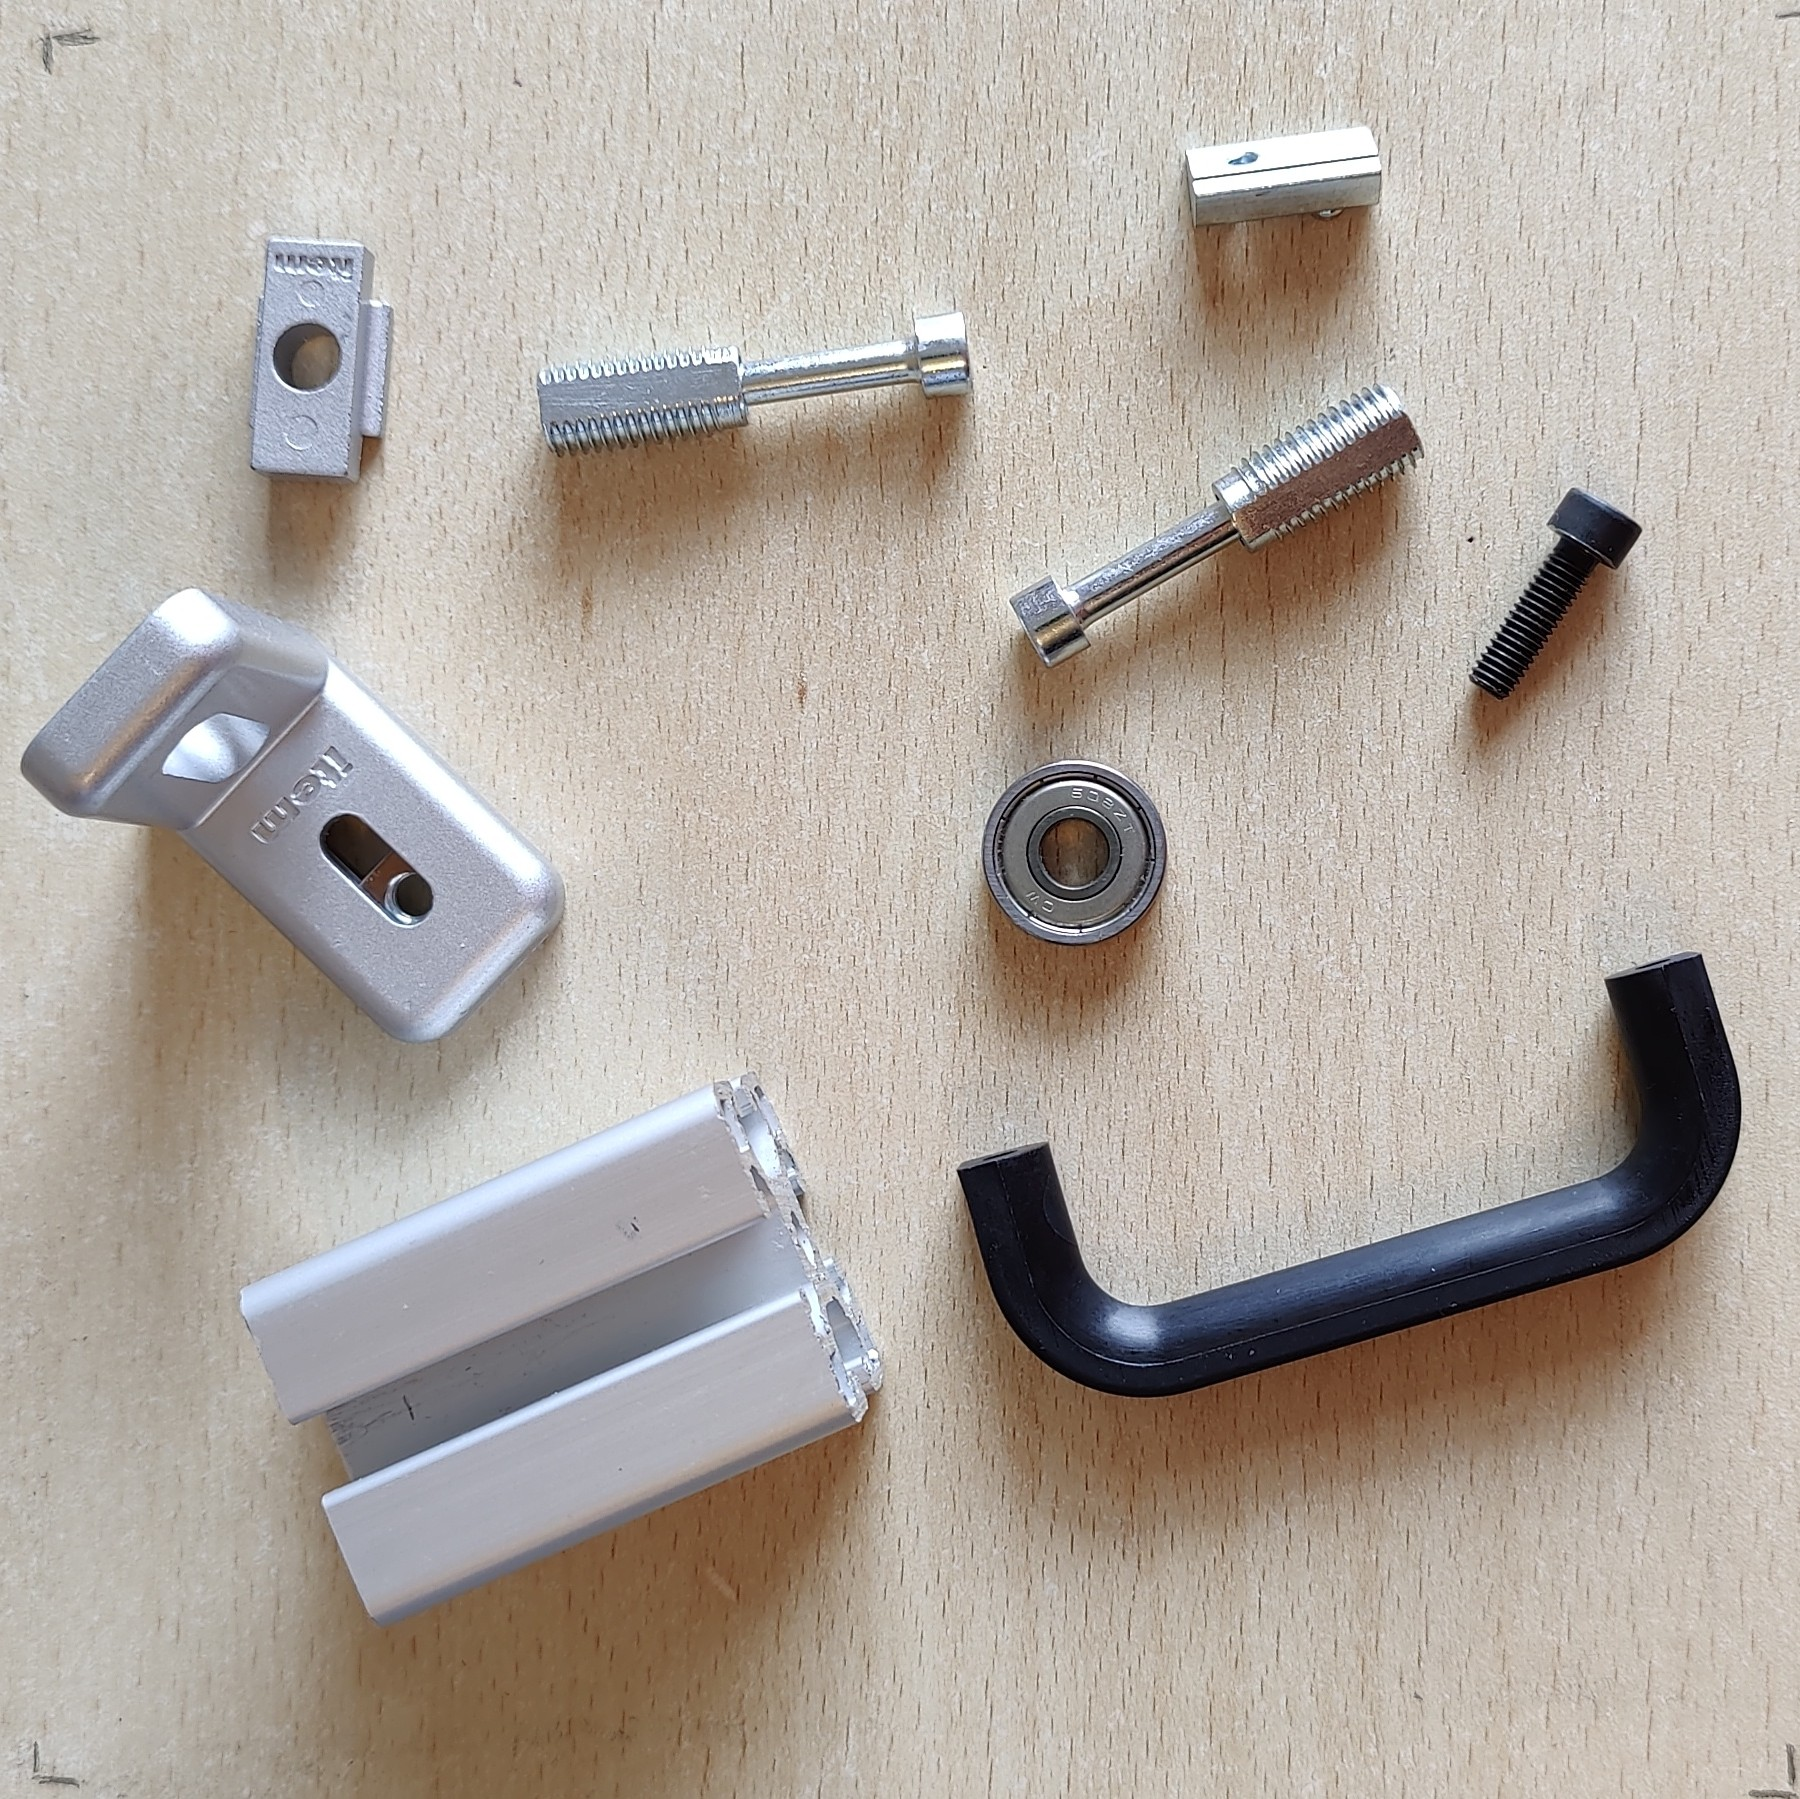Aluminium Extension: (235, 1068, 888, 1633)
Ball Bearing: (978, 758, 1169, 949)
Multiwinkel: (16, 583, 567, 1044)
Pull Handle: (952, 949, 1742, 1400)
Shoulder Socket Head Cap Screw: (1005, 382, 1428, 674), (534, 306, 973, 460)
Socket Head Cap Screw: (1464, 483, 1685, 703)
T Nut Square: (244, 232, 397, 488)
T Spring Nut: (1181, 122, 1387, 234)
